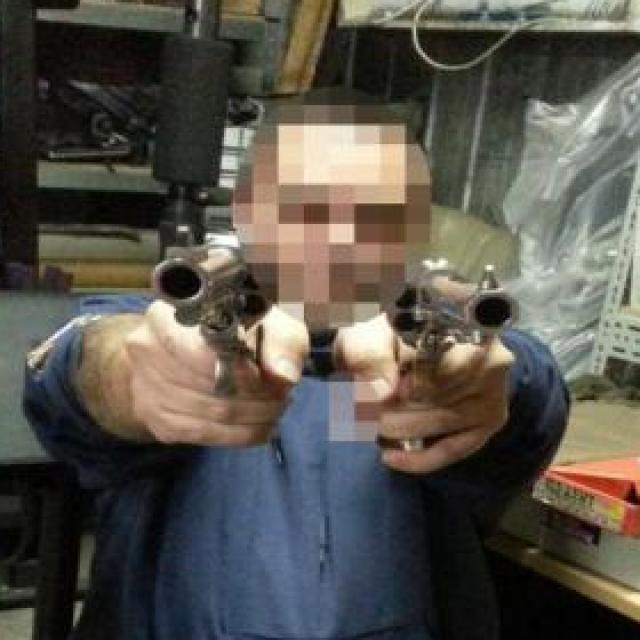pistol: (375, 252, 521, 459), (149, 238, 264, 399)
